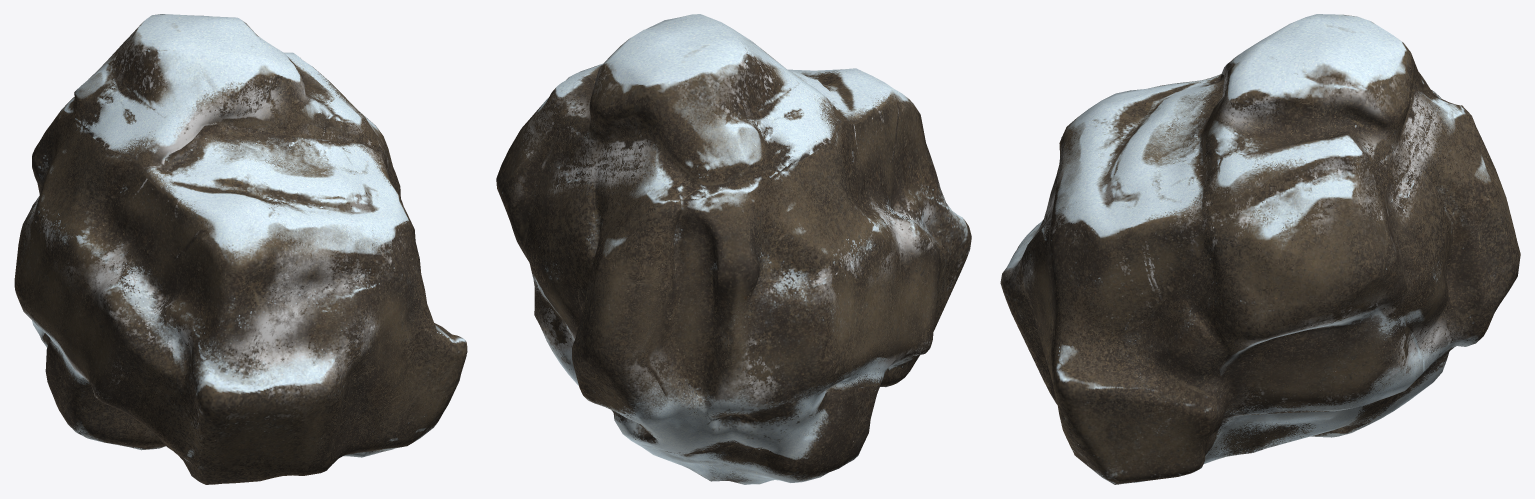
File: Asteroid.glb
3 views of the same model, side by side, from view 1: azimuth 30°, elevation 25°; view 2: azimuth 150°, elevation 25°; view 3: azimuth 270°, elevation 25° (orthographic). The views are drawn at different scales.
Parts seen in each view (by area): view 1: snowplanet.1; view 2: snowplanet.1; view 3: snowplanet.1.
Boxes of the visible parts, x1,y1,x2,y2 form: snowplanet.1: (14, 14, 467, 484); snowplanet.1: (496, 14, 971, 484); snowplanet.1: (1000, 14, 1520, 484).
Size of the model in its own units: 0.9278 by 1.06 by 1.2.
Materials: 1 (1 with a texture image).
